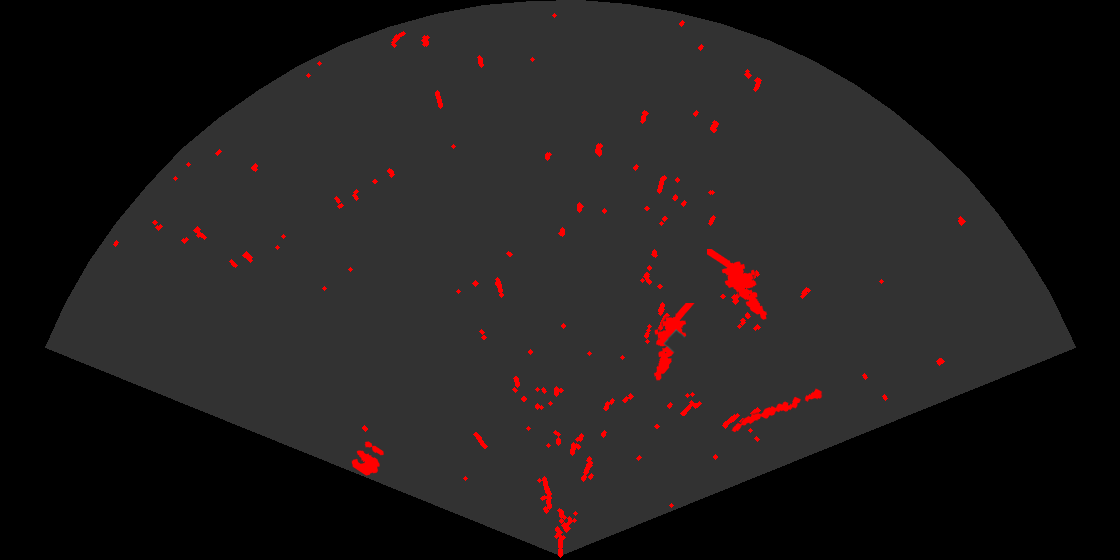ball: (350, 440, 385, 477)
chain: (730, 387, 825, 434)
frogman: (707, 249, 769, 321), (652, 303, 696, 382)
